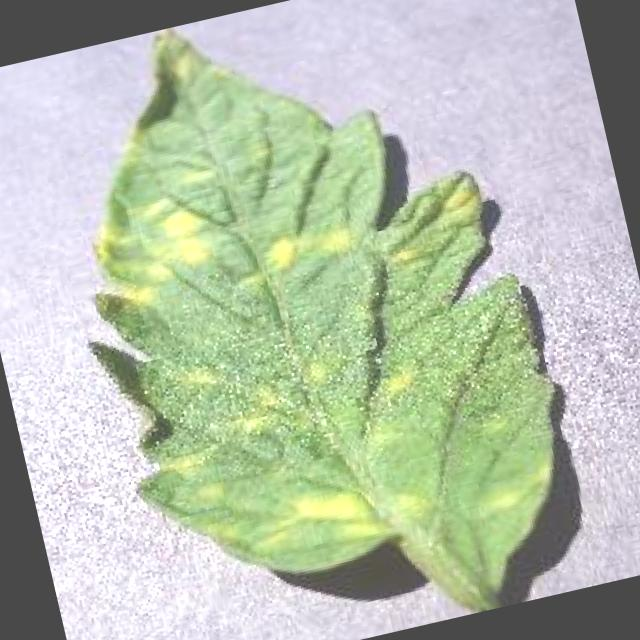leaf mold: (88, 26, 563, 614)
